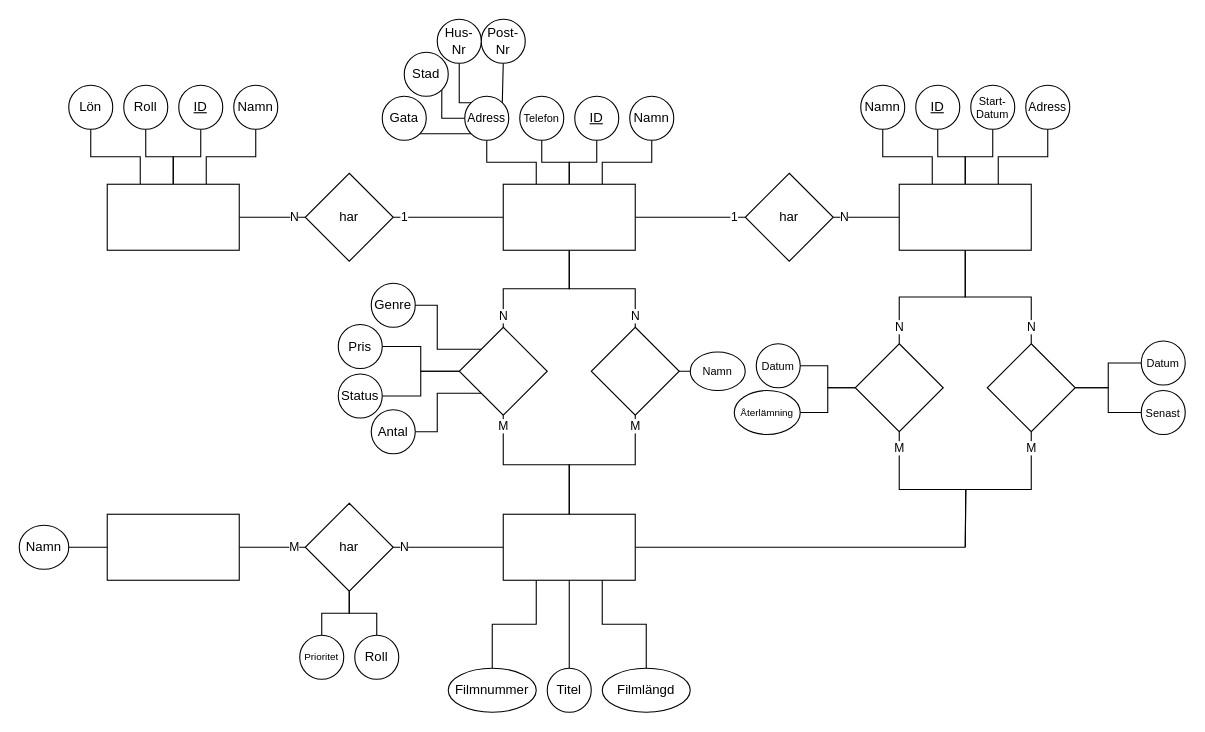
Image size: 1205x732. Some labels were removed from this diagram. The shapes that lost their labels are listed below. From the top down, each one's centre as x and y in pixels, then its label:
point 172,216: Anställda
point 568,216: Butik
point 964,216: Medlem
point 502,370: erbjuder
point 634,370: hylla
point 898,387: hyr
point 1030,387: reserverar
point 172,546: Film_Personal
point 568,546: Film
